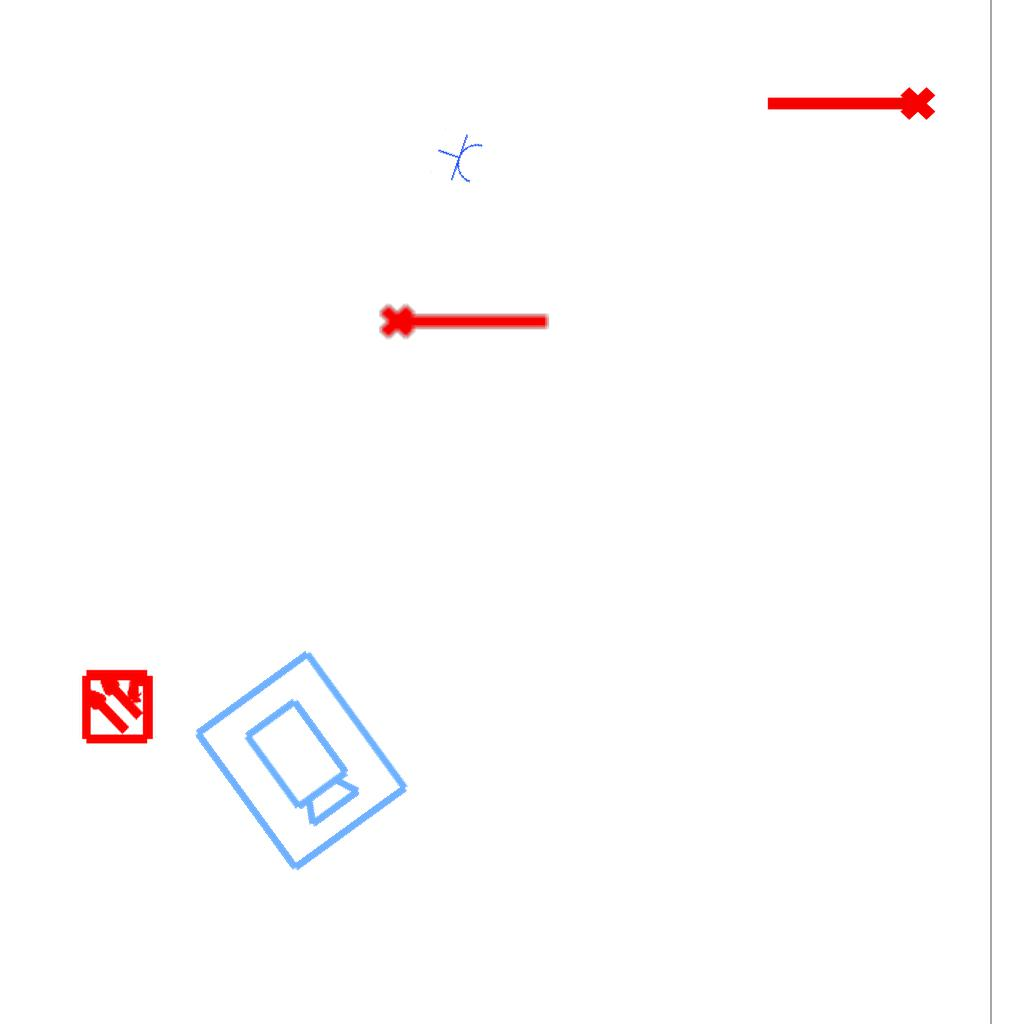ASR_Ansaugoeffnung: (377, 296, 553, 342), (762, 83, 938, 129)
KFO_Kamera_mit_Festobjektiv: (184, 642, 416, 880)
OT_Multisensormelder_(Kombination_RMO_WMD): (61, 648, 174, 761)
Schukosteckdose_einfach: (429, 126, 487, 189)
